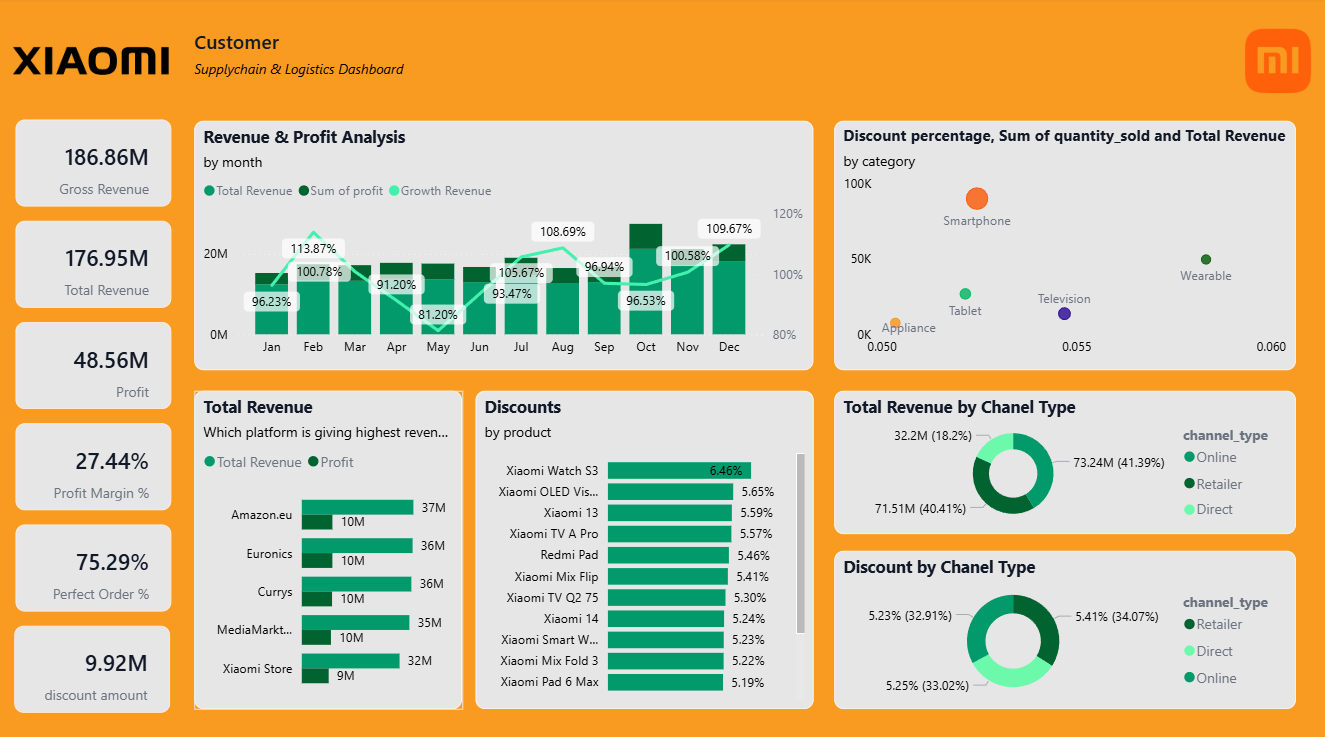

What the dashboard file says about the page in this screenshot:
{"tool":"powerbi","page":{"name":"Customer","canvas":[1280,720],"ordinal":5},"visuals":[{"type":"shape","title":"Customer","box":[189.5,30.4,228.4,65.6],"z":0},{"type":"cardVisual","fields":{"Data":["Measures_Table.Total Revenue"]},"box":[17.4,216.1,150,84],"z":1000},{"type":"cardVisual","fields":{"Data":["Measures_Table.Profit"]},"box":[17.4,313.8,150,84],"z":2000},{"type":"cardVisual","fields":{"Data":["Measures_Table.Profit Margin %"]},"box":[17.4,411.5,150,84],"z":3000},{"type":"cardVisual","fields":{"Data":["Measures_Table.Perfect Order %"]},"box":[17.4,509.2,150,84],"z":4000},{"type":"cardVisual","fields":{"Data":["Measures_Table.Gross Revenue"]},"box":[16.4,118.5,150,84],"z":5000},{"type":"cardVisual","fields":{"Data":["Sum(fact_sales.discount_amount)"]},"box":[16.2,606.8,150,84],"z":6000},{"type":"clusteredBarChart","title":"Total Revenue","fields":{"Category":["dim_customer.customer_name"],"Y":["Measures_Table.Total Revenue","Measures_Table.Profit"]},"box":[189.5,380.2,258.7,307.3],"z":7000},{"type":"donutChart","title":"Total Revenue by Chanel Type","fields":{"Y":["Measures_Table.Total Revenue"],"Category":["dim_customer.channel_type"]},"box":[806.5,380.2,445.8,138.5],"z":8000},{"type":"lineStackedColumnComboChart","title":"Revenue & Profit Analysis","fields":{"Category":["dim_date.Month Short"],"Y":["Measures_Table.Total Revenue","Sum(fact_sales.profit)"],"Y2":["Measures_Table.Growth Revenue"]},"box":[189.5,119,597.6,240.5],"z":9000},{"type":"scatterChart","fields":{"X":["Measures_Table.Discount percentage"],"Y":["Sum(fact_sales.quantity_sold)"],"Series":["dim_product.category"],"Size":["Measures_Table.Total Revenue"]},"box":[806.5,119,445.8,240.5],"z":10000},{"type":"barChart","title":"Discounts","fields":{"Category":["dim_product.product_name"],"Y":["Measures_Table.Discount percentage"]},"box":[460.4,380.2,326.7,307.3],"z":11000},{"type":"donutChart","title":"Discount by Chanel Type","fields":{"Category":["dim_customer.channel_type"],"Y":["Measures_Table.Discount percentage"]},"box":[806.5,534.4,445.8,153],"z":12000},{"type":"image","box":[1.2,29.2,178.6,65.6],"z":13000},{"type":"image","box":[1190.4,12.1,89.9,99.6],"z":14000}]}

Visuals, with their boxes in screenshot pixels (x1, y1, x2, y2), scaled from the page's 1280x720 canvas onto the 1325x737 screenshot:
"Customer" shape: pyautogui.locateOnScreen(196, 31, 433, 98)
cardVisual - Measures_Table.Total Revenue: pyautogui.locateOnScreen(18, 221, 173, 307)
cardVisual - Measures_Table.Profit: pyautogui.locateOnScreen(18, 321, 173, 407)
cardVisual - Measures_Table.Profit Margin %: pyautogui.locateOnScreen(18, 421, 173, 507)
cardVisual - Measures_Table.Perfect Order %: pyautogui.locateOnScreen(18, 521, 173, 607)
cardVisual - Measures_Table.Gross Revenue: pyautogui.locateOnScreen(17, 121, 172, 207)
cardVisual - Sum(fact_sales.discount_amount): pyautogui.locateOnScreen(17, 621, 172, 707)
"Total Revenue" clusteredBarChart: pyautogui.locateOnScreen(196, 389, 464, 704)
"Total Revenue by Chanel Type" donutChart: pyautogui.locateOnScreen(835, 389, 1296, 531)
"Revenue & Profit Analysis" lineStackedColumnComboChart: pyautogui.locateOnScreen(196, 122, 815, 368)
scatterChart - Measures_Table.Discount percentage x Sum(fact_sales.quantity_sold): pyautogui.locateOnScreen(835, 122, 1296, 368)
"Discounts" barChart: pyautogui.locateOnScreen(477, 389, 815, 704)
"Discount by Chanel Type" donutChart: pyautogui.locateOnScreen(835, 547, 1296, 704)
image: pyautogui.locateOnScreen(1, 30, 186, 97)
image: pyautogui.locateOnScreen(1232, 12, 1324, 114)
